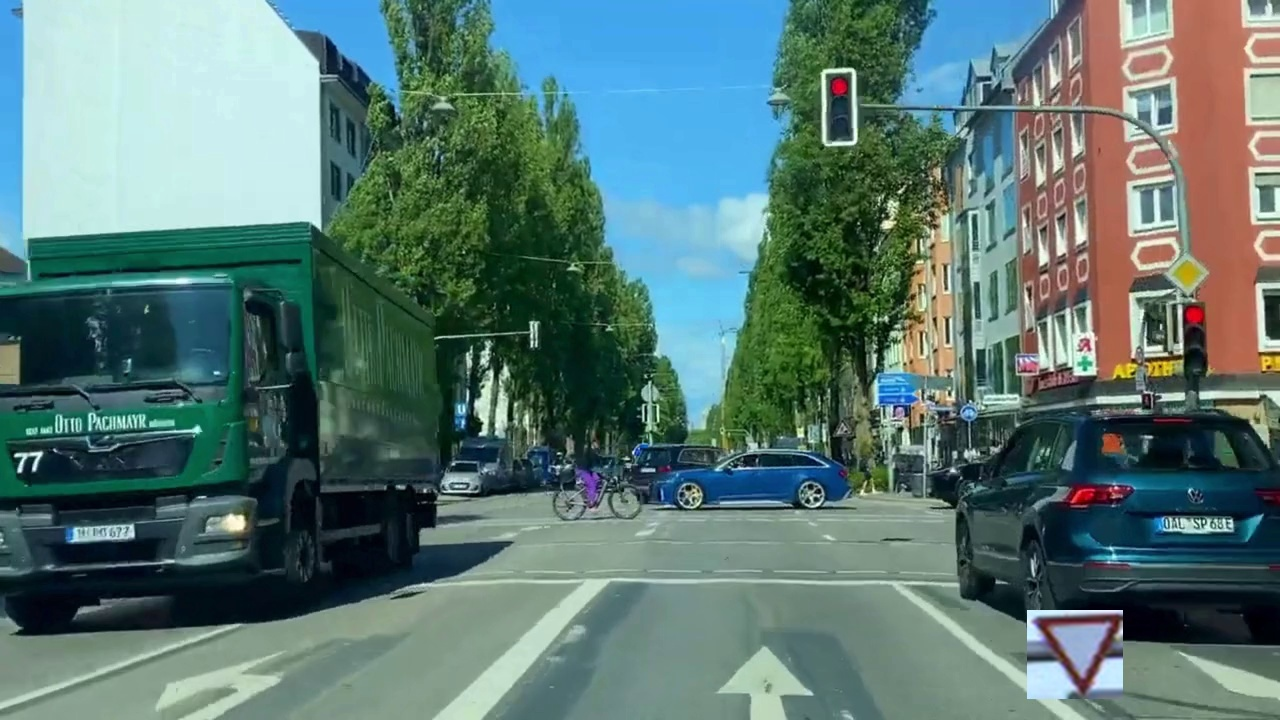Yield: (1027, 610, 1123, 699)
